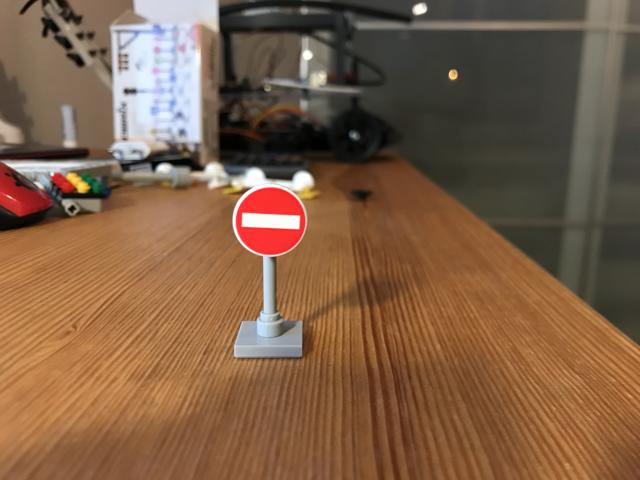verbot der einfahrt: (234, 185, 306, 256)
